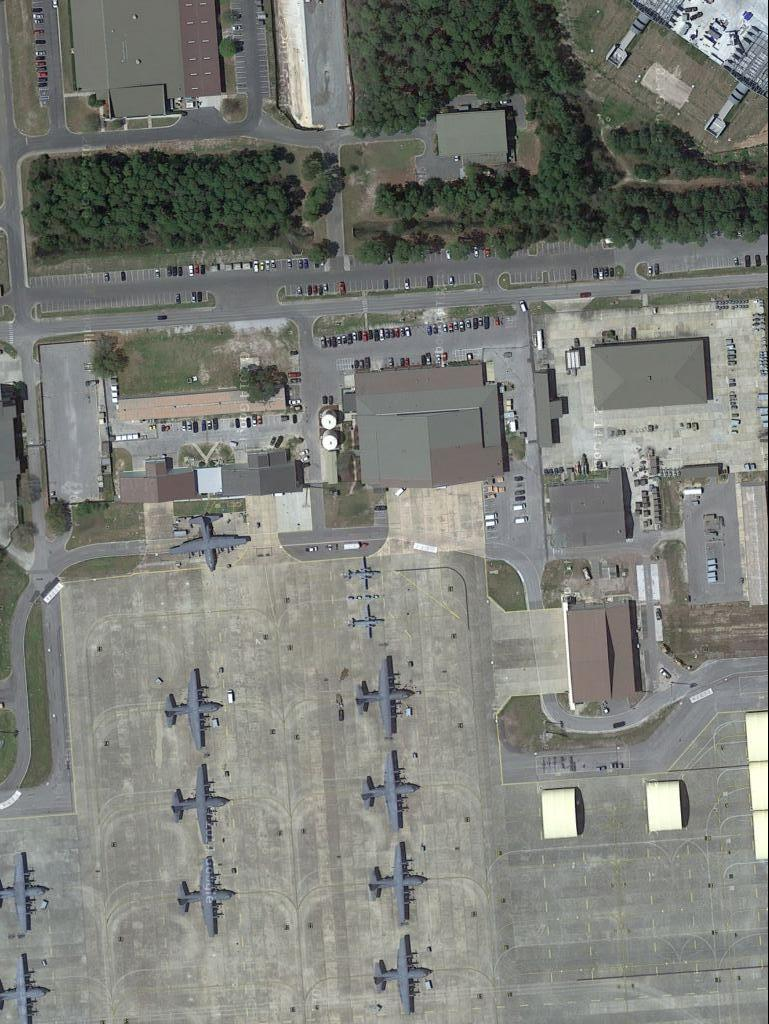C-130: (351, 652, 421, 742), (174, 856, 246, 940), (162, 665, 226, 756), (165, 761, 230, 849), (358, 747, 419, 837), (367, 839, 428, 926), (169, 510, 252, 573), (374, 934, 434, 1018), (1, 851, 49, 936), (1, 951, 54, 1024)
